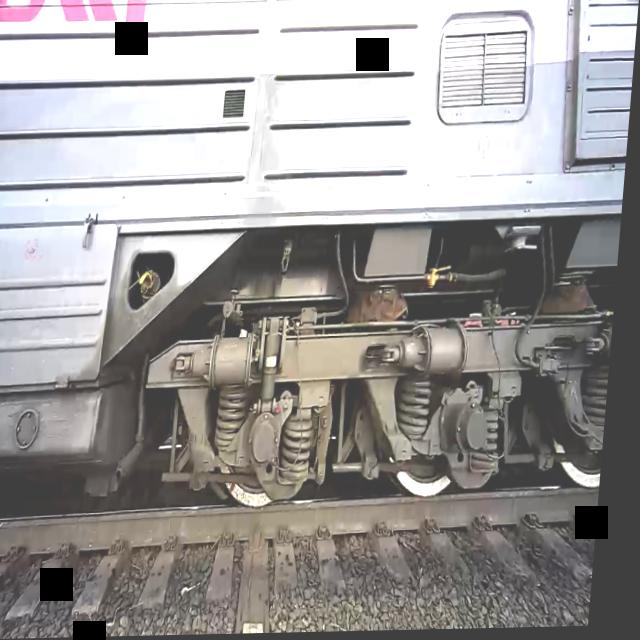locomotive: (0, 0, 640, 539)
